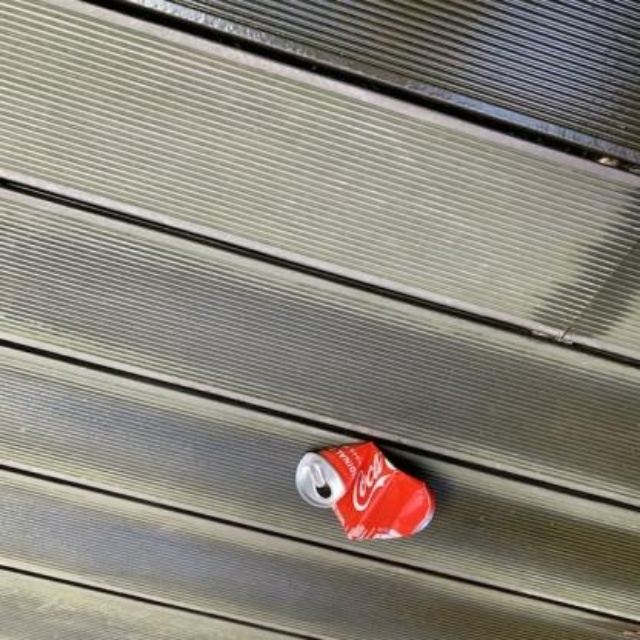trash: (295, 443, 434, 538)
